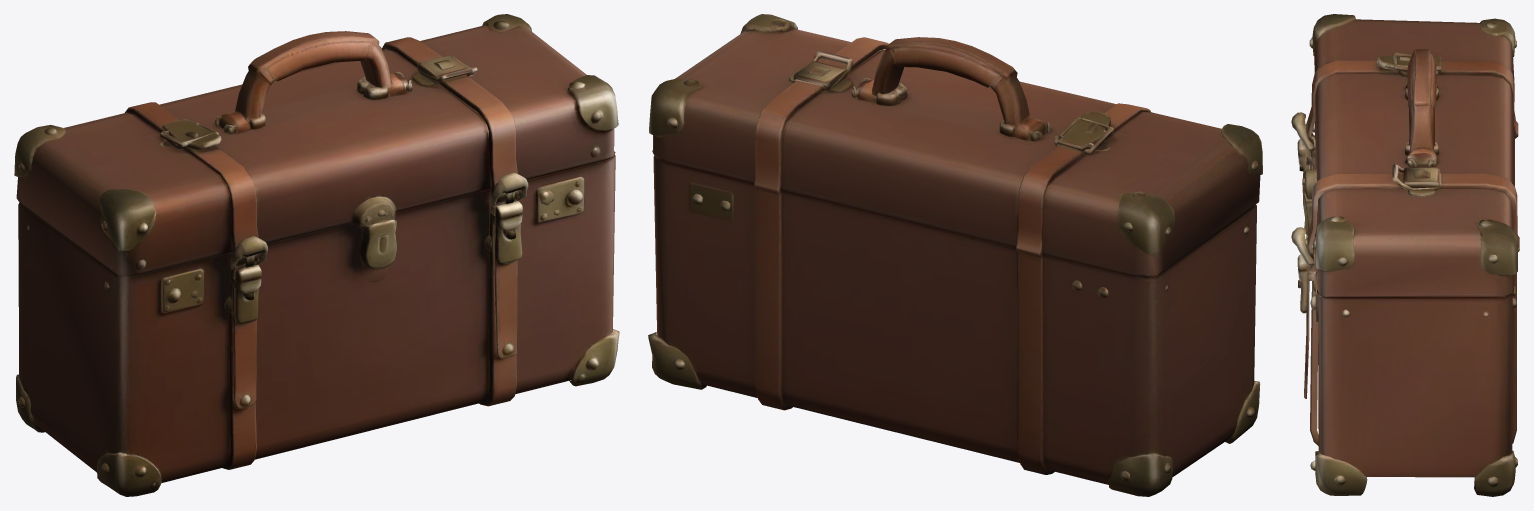
Rendered from atd_suitcase.glb.
The picture shows the model from 3 angles, left to right: view 1: azimuth 30°, elevation 25°; view 2: azimuth 150°, elevation 25°; view 3: azimuth 270°, elevation 25°; orthographic projection. The views are drawn at different scales.
Parts seen in each view (by area): view 1: tripo_32646f10_b685_49b7_a34a_f1baf6472dd2; view 2: tripo_32646f10_b685_49b7_a34a_f1baf6472dd2; view 3: tripo_32646f10_b685_49b7_a34a_f1baf6472dd2.
Boxes of the visible parts, x1,y1,x2,y2 form: tripo_32646f10_b685_49b7_a34a_f1baf6472dd2: [14, 14, 619, 496]; tripo_32646f10_b685_49b7_a34a_f1baf6472dd2: [648, 14, 1262, 496]; tripo_32646f10_b685_49b7_a34a_f1baf6472dd2: [1291, 14, 1519, 496].
Bounding box in the file's own units: 0.999 × 0.6822 × 0.4272.
1 material, 1 textured.
